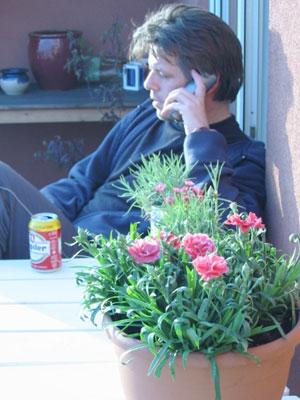person: (1, 3, 267, 262)
